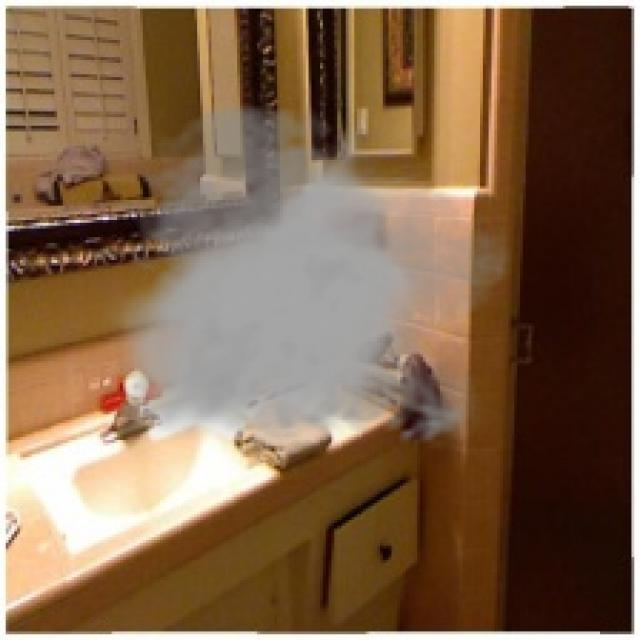smoke: (103, 100, 511, 454)
